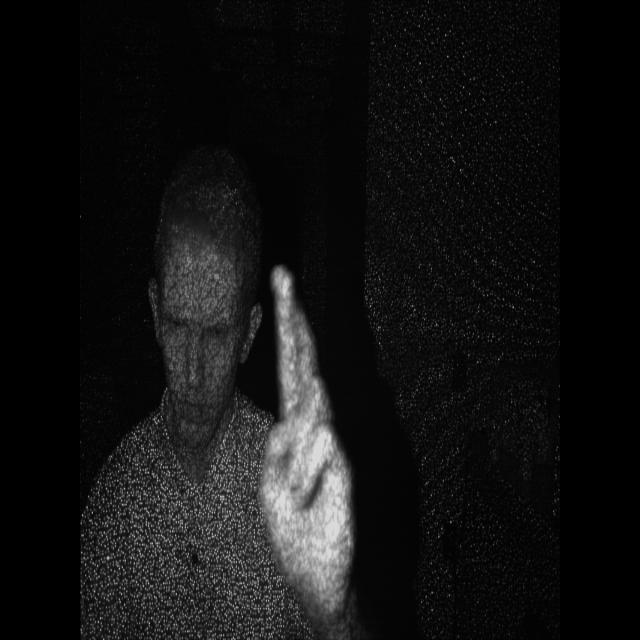R: (261, 249, 370, 578)
